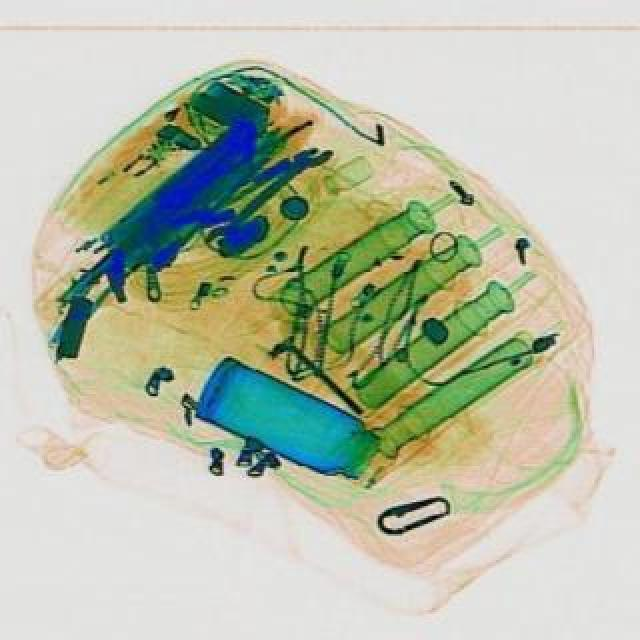scissors: (204, 134, 340, 254)
